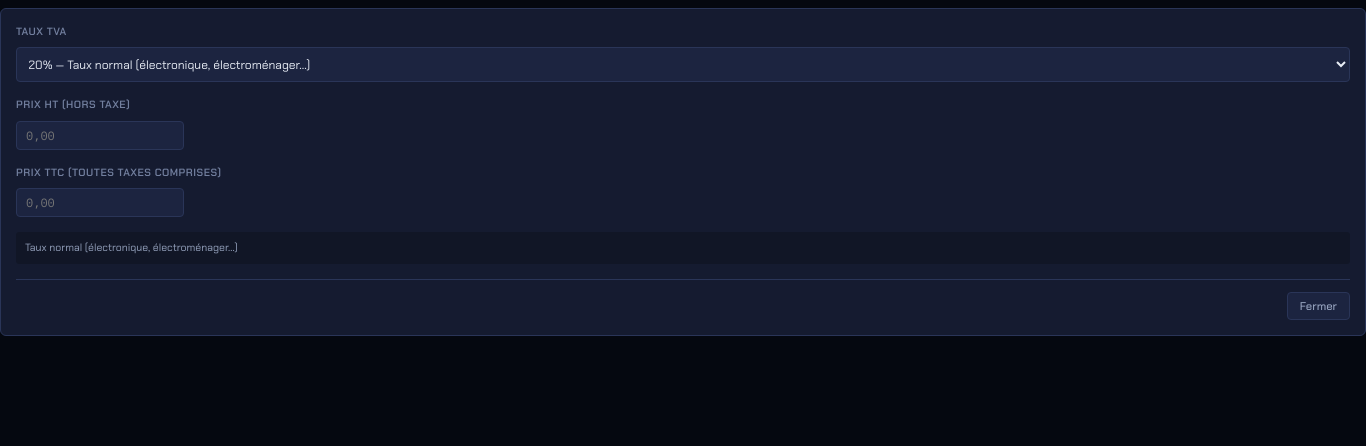
Test: VATCalculator › calculates HT when TTC is entered
Type "120" into the number field named "Prix TTC". click: (100, 202)
box: [16,188,184,217]
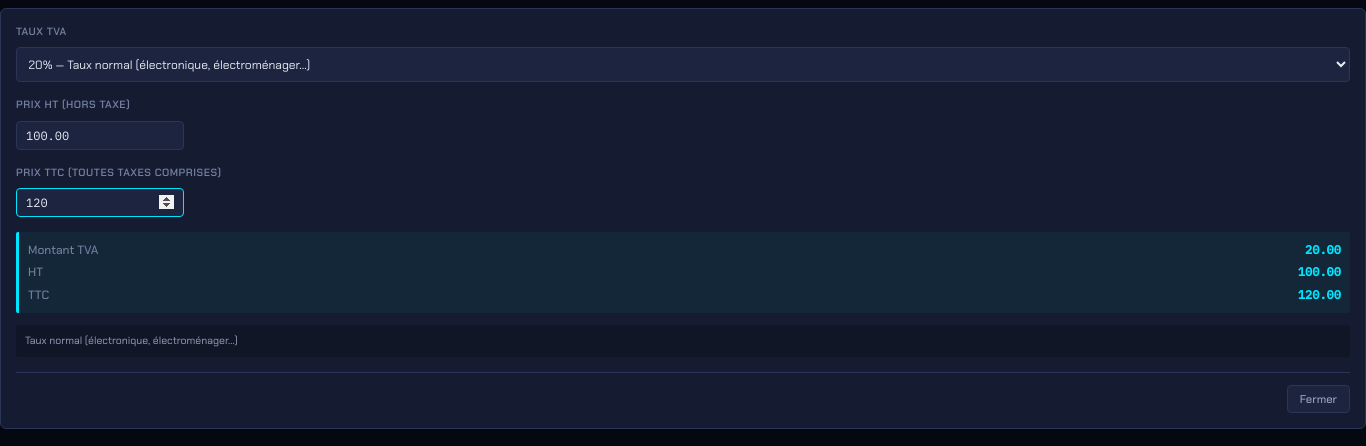
Expected: the number field named "Prix HT" holds "100.00", [16,120,184,150]
